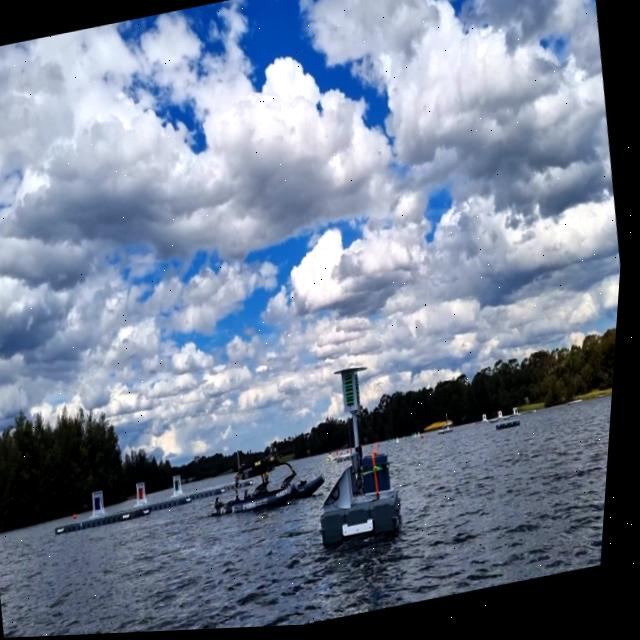led: (347, 375, 365, 415)
